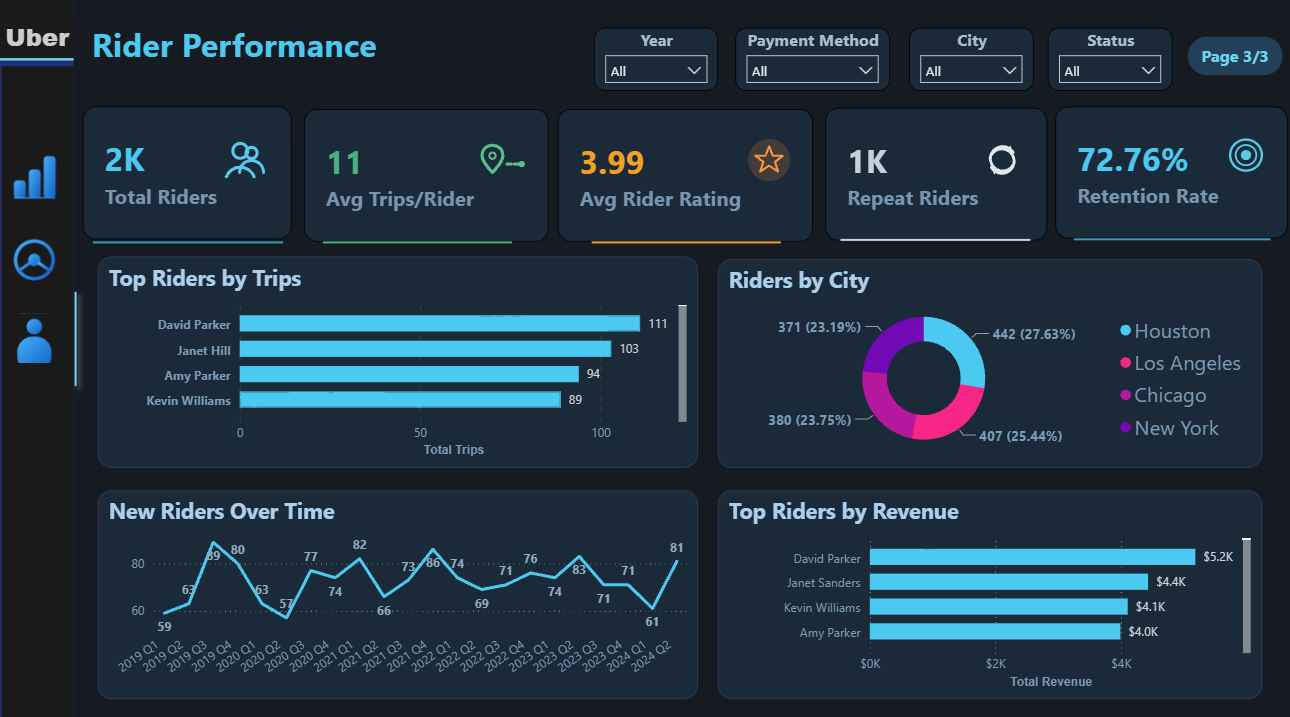

The dashboard page shown, as its layout file describes it:
{"tool":"powerbi","page":{"name":"Page 3","canvas":[1280,720],"ordinal":2},"visuals":[{"type":"shape","box":[0,0,70,720],"z":0},{"type":"textbox","box":[69.7,0,570.2,75.4],"z":1000},{"type":"slicer","title":"Payment Method","fields":{"Values":["dim_payment_method.payment_method_value"]},"box":[727.5,28.8,152.5,62.5],"z":2000},{"type":"slicer","title":"City","fields":{"Values":["dim_location.city"]},"box":[898.7,28.6,123.1,62.1],"z":3000},{"type":"slicer","title":"Status","fields":{"Values":["dim_status.status_value"]},"box":[1035.4,28.6,123.1,62.1],"z":4000},{"type":"shape","box":[1174.5,37,93.8,38.4],"z":5000},{"type":"cardVisual","fields":{"Data":["_measures.Total Riders"]},"box":[97.6,108.9,205.9,131.1],"z":6000},{"type":"cardVisual","fields":{"Data":["_measures.Avg Trips per Rider"]},"box":[323.7,108.9,203.1,131.1],"z":7000},{"type":"cardVisual","fields":{"Data":["_measures.Avg Rider Rating"]},"box":[552.5,108.8,212.5,131.2],"z":8000},{"type":"cardVisual","fields":{"Data":["_measures.Repeat Riders"]},"box":[776.2,108.8,218.8,131.2],"z":9000},{"type":"cardVisual","fields":{"Data":["_measures.Retention Rate %"]},"box":[1007.5,108.8,216.2,130],"z":10000},{"type":"shape","box":[564.5,226.1,187.2,28.8],"z":11000},{"type":"barChart","title":"Top Riders by Trips","fields":{"Y":["Sum(dim_rider.total_trips)"],"Category":["dim_rider.email"]},"box":[97.5,253.8,592.5,208.8],"z":12000},{"type":"shape","box":[331.2,226.1,187.2,28.8],"z":13000},{"type":"shape","box":[106.6,226.1,187.2,28.8],"z":14000},{"type":"shape","box":[790.6,226.1,187.2,28.8],"z":15000},{"type":"donutChart","title":"Riders by City","fields":{"Category":["dim_rider.city"],"Y":["_measures.Total Riders"]},"box":[710,256.2,537.5,206.2],"z":15000,"group":"g1"},{"type":"lineChart","title":"New Riders Over Time","fields":{"Y":["_measures.Total Riders"],"Category":["dim_rider.date_joined"]},"box":[97.5,485,592.5,206.2],"z":15000,"group":"g3"},{"type":"barChart","title":"Top Riders by Revenue","fields":{"Y":["_measures.Total Revenue"],"Category":["dim_rider.email"]},"box":[710,485,537.5,206.3],"z":15000,"group":"g2"},{"type":"shape","box":[1015.3,226.1,194.8,27],"z":16000},{"type":"group","id":"g1","title":"Group 1","box":[710,256.2,537.5,206.2],"z":17000},{"type":"actionButton","box":[5.7,136.5,58.3,76.8],"z":18000},{"type":"shape","box":[58.8,287.5,23.8,110],"z":19000},{"type":"slicer","title":"Year","fields":{"Values":["dim_date.year"]},"box":[587.5,28.8,122.5,62.5],"z":20000},{"type":"group","id":"g2","title":"Group 1","box":[710,485,537.5,206.2],"z":21000},{"type":"group","id":"g3","title":"Group 1","box":[97.5,485,592.5,206.2],"z":22000},{"type":"actionButton","box":[6.2,226.2,57.5,77.5],"z":23000},{"type":"actionButton","box":[6.2,303.8,57.5,77.5],"z":24000}]}

Visuals, with their boxes in screenshot pixels (x1, y1, x2, y2), scaled from the page's 1280x720 canvas onto the 1290x717 screenshot:
shape: 0:0:71:716
textbox: 70:0:645:75
"Payment Method" slicer: 733:29:887:91
"City" slicer: 906:28:1030:90
"Status" slicer: 1043:28:1168:90
shape: 1184:37:1278:75
cardVisual - _measures.Total Riders: 98:108:306:239
cardVisual - _measures.Avg Trips per Rider: 326:108:531:239
cardVisual - _measures.Avg Rider Rating: 557:108:771:239
cardVisual - _measures.Repeat Riders: 782:108:1003:239
cardVisual - _measures.Retention Rate %: 1015:108:1233:238
shape: 569:225:758:254
"Top Riders by Trips" barChart: 98:253:695:461
shape: 334:225:522:254
shape: 107:225:296:254
shape: 797:225:985:254
"Riders by City" donutChart: 716:255:1257:460
"New Riders Over Time" lineChart: 98:483:695:688
"Top Riders by Revenue" barChart: 716:483:1257:688
shape: 1023:225:1220:252
"Group 1" group: 716:255:1257:460
actionButton: 6:136:64:212
shape: 59:286:83:396
"Year" slicer: 592:29:716:91
"Group 1" group: 716:483:1257:688
"Group 1" group: 98:483:695:688
actionButton: 6:225:64:302
actionButton: 6:303:64:380
